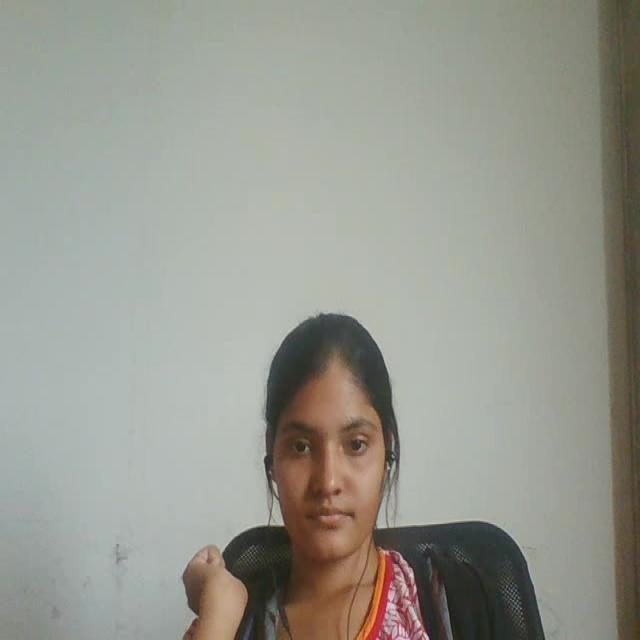Engaged: (230, 281, 427, 571)
